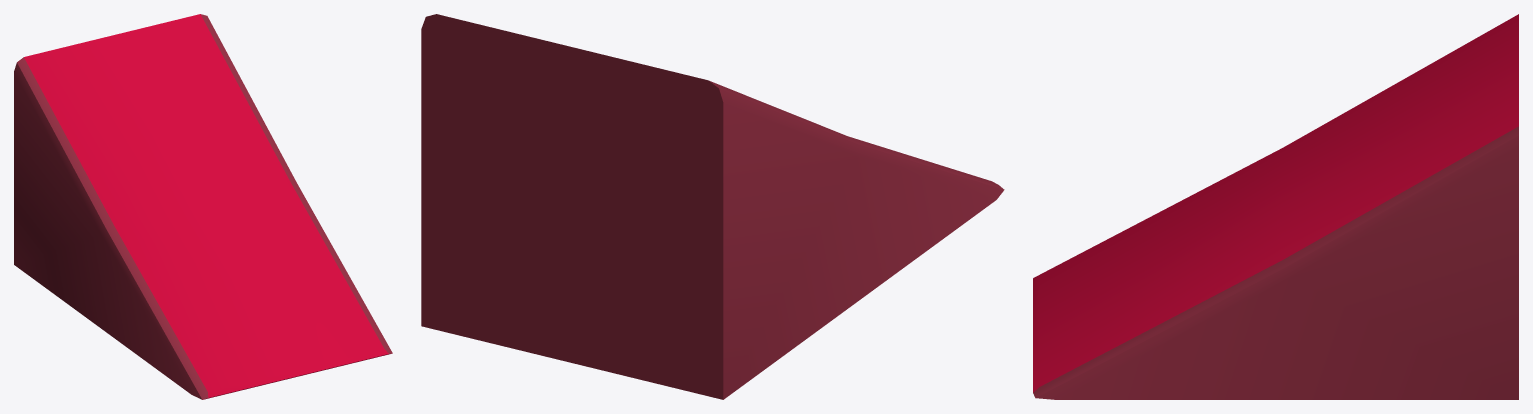
The model's file is (p) Pink Triangular block.fbx.
3 views of the same model, side by side, from view 1: azimuth 30°, elevation 25°; view 2: azimuth 150°, elevation 25°; view 3: azimuth 270°, elevation 25° (orthographic). The views are drawn at different scales.
Visible parts, largest first — view 1: Triangalar Block.002; view 2: Triangalar Block.002; view 3: Triangalar Block.002.
Part boxes in pixels (bbox=[...]): Triangalar Block.002: bbox=[14, 14, 392, 399]; Triangalar Block.002: bbox=[421, 14, 1004, 399]; Triangalar Block.002: bbox=[1033, 14, 1518, 399].
Bounding box in the file's own units: 296 × 296 × 488.
